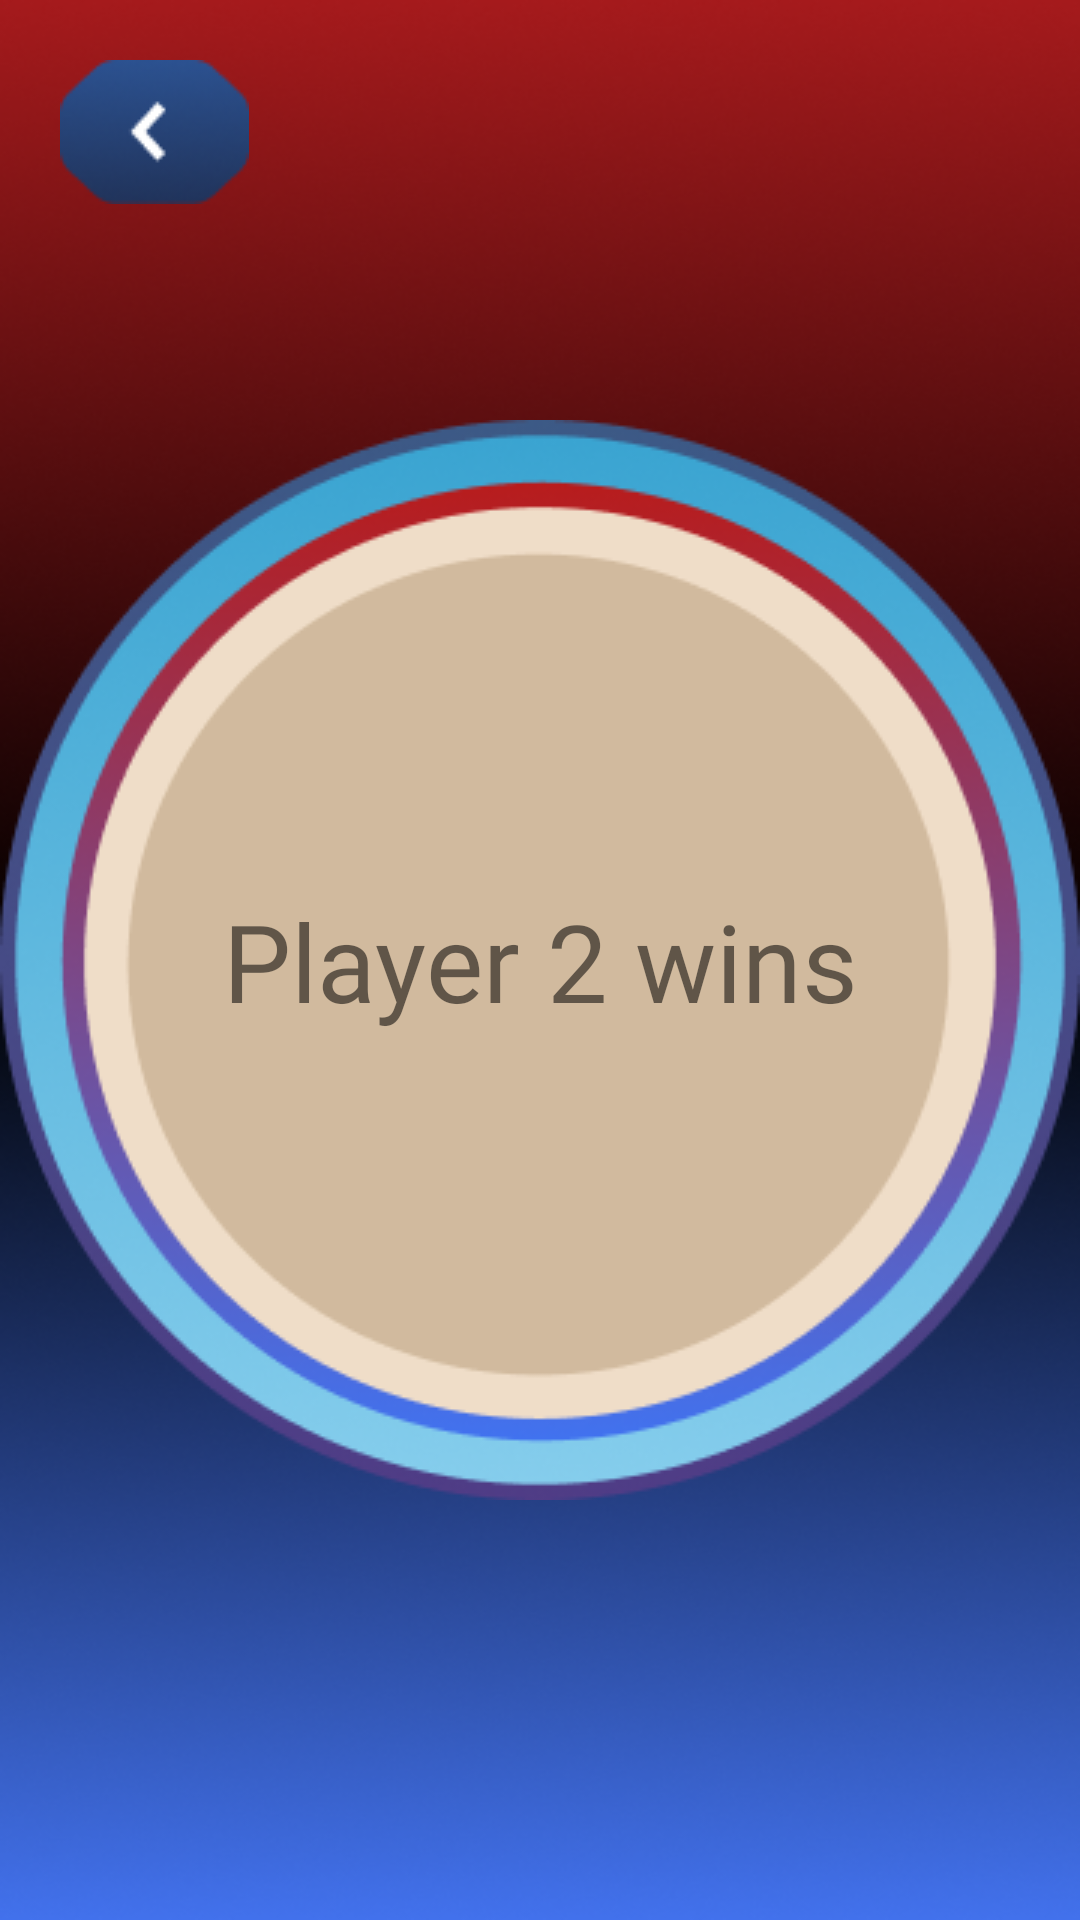

Locate icon controls on the screen. Image size 1080px x 1920px, boxes as (x1, y1, x2, y2).
back: (60, 60, 249, 204)
